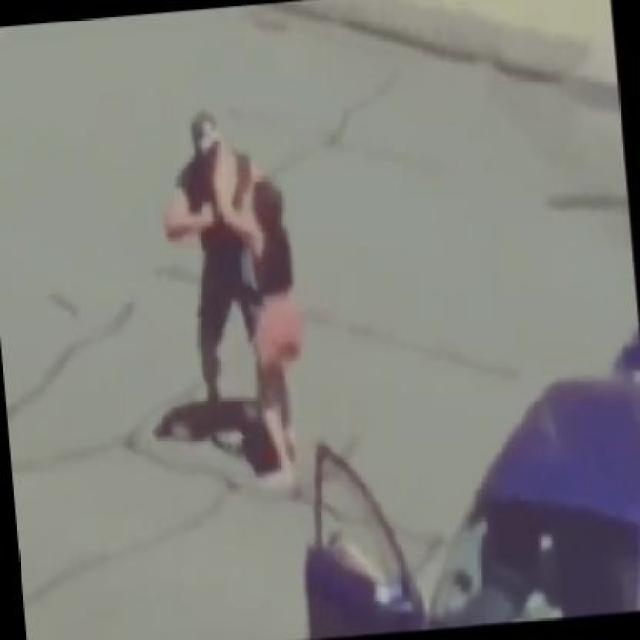fight: (166, 110, 300, 475)
